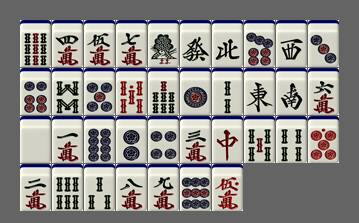0m: (212, 164, 243, 211)
0p: (308, 116, 339, 163)
0s: (116, 68, 147, 115)
1m: (52, 116, 83, 163)
1p: (180, 68, 211, 115)
1s: (148, 20, 179, 67)
1z: (244, 68, 275, 115)
2m: (20, 164, 51, 211)
2p: (116, 116, 147, 163)
2s: (212, 68, 243, 115)
2z: (276, 68, 307, 115)
3m: (180, 116, 211, 163)
3p: (308, 20, 339, 67)
3s: (84, 164, 115, 211)
3z: (276, 20, 307, 67)
4m: (52, 20, 83, 67)
4p: (148, 116, 179, 163)
4s: (276, 116, 307, 163)
4z: (212, 20, 243, 67)
5m: (84, 20, 115, 67)
5p: (84, 68, 115, 115)
5s: (244, 116, 275, 163)
5z: (20, 116, 51, 163)
6m: (308, 68, 339, 115)
6p: (20, 68, 51, 115)
6s: (52, 164, 83, 211)
6z: (180, 20, 211, 67)
7m: (116, 20, 147, 67)
7p: (244, 20, 275, 67)
7s: (148, 68, 179, 115)
7z: (212, 116, 243, 163)
8m: (116, 164, 147, 211)
8p: (84, 116, 115, 163)
8s: (52, 68, 83, 115)
9m: (148, 164, 179, 211)
9p: (180, 164, 211, 211)
9s: (20, 20, 51, 67)
